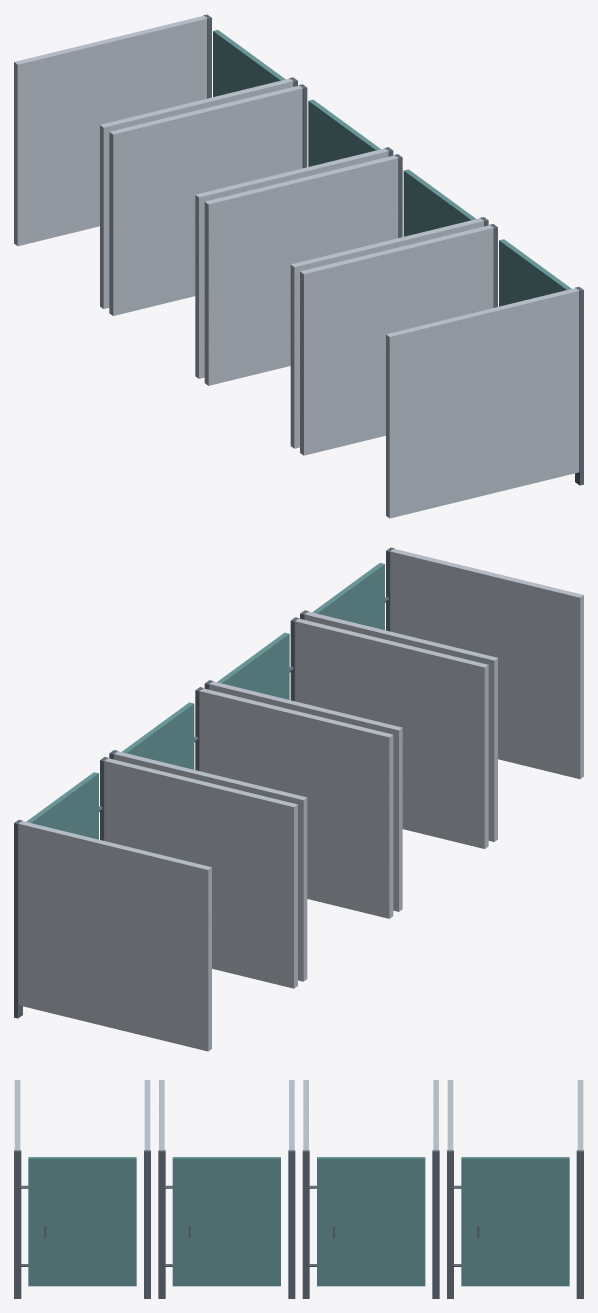
File: tt_gallery_changing.glb
3 views of the same model, one above another, from view 1: azimuth 30°, elevation 25°; view 2: azimuth 150°, elevation 25°; view 3: azimuth 270°, elevation 25° (orthographic). The views are drawn at different scales.
Visible parts, largest first — view 1: Changing_Dividers, Changing_Door, Changing_SupportPosts; view 2: Changing_Dividers, Changing_Door, Changing_SupportPosts; view 3: Changing_Door, Changing_SupportPosts, Changing_Dividers.
Boxes of the visible parts, box(x1,y1,x2,y2) form: Changing_Dividers: box(14, 15, 579, 518); Changing_Door: box(213, 30, 571, 306); Changing_SupportPosts: box(203, 14, 583, 485); Changing_Dividers: box(18, 548, 583, 1051); Changing_Door: box(26, 563, 384, 839); Changing_SupportPosts: box(14, 547, 394, 1018); Changing_Door: box(28, 1157, 569, 1286); Changing_SupportPosts: box(14, 1150, 583, 1298); Changing_Dividers: box(14, 1080, 583, 1150).
Size of what is drawn, in the model's own units: 2.4 by 2.25 by 7.9.
3 materials, 2 textured.
